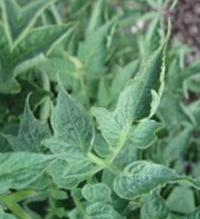Tomato leaf mosaic virus: (88, 20, 182, 162), (30, 72, 114, 170), (109, 150, 190, 214), (0, 140, 59, 210), (78, 181, 116, 207)
